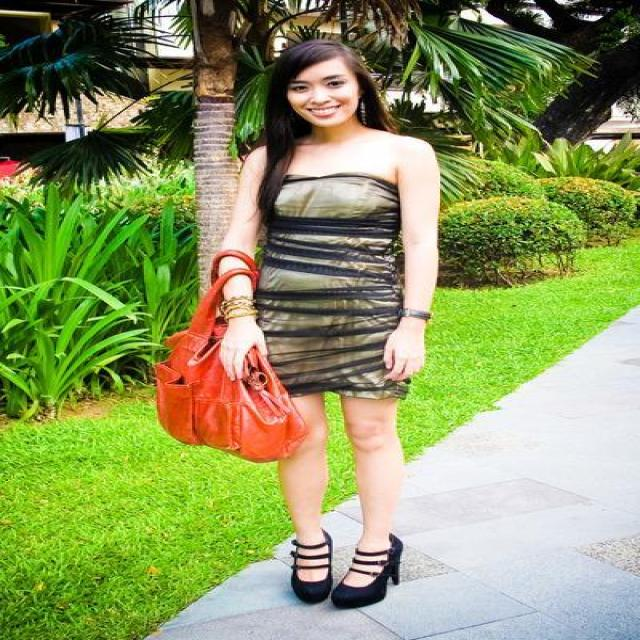bag: (152, 232, 306, 472)
dress: (251, 166, 411, 404)
shoe: (283, 522, 402, 609)
